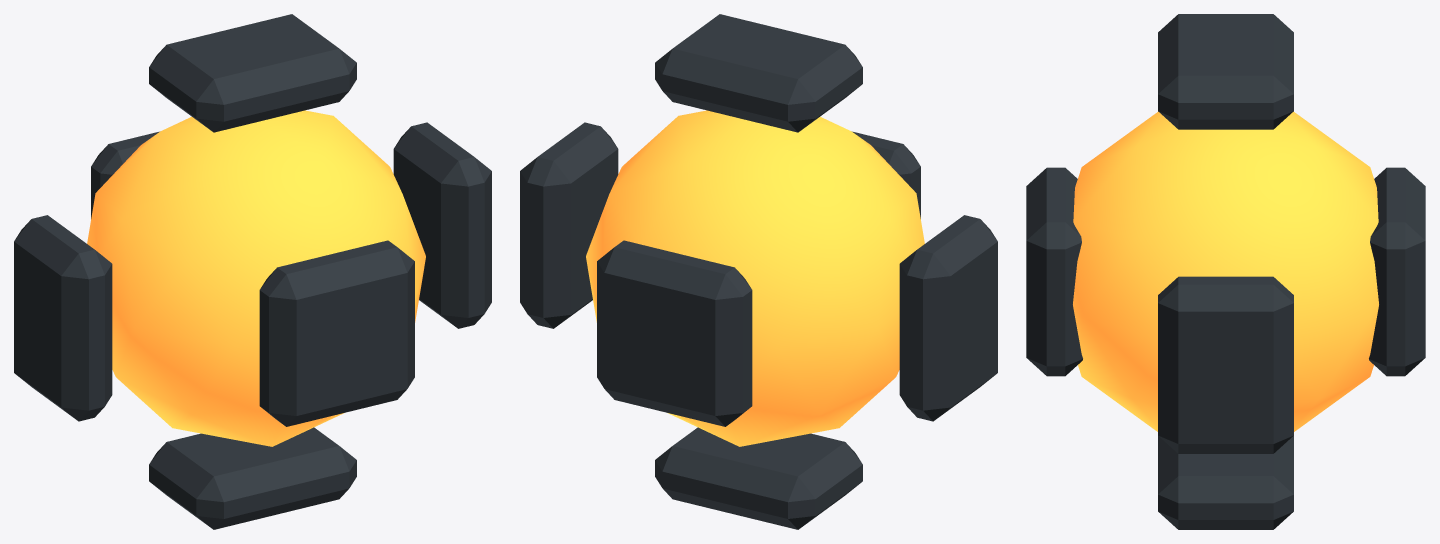
File: VFX_WeakpointCore_v01.glb
3 views of the same model, side by side, from view 1: azimuth 30°, elevation 25°; view 2: azimuth 150°, elevation 25°; view 3: azimuth 270°, elevation 25° (orthographic).
Parts seen in each view (by area): view 1: MESH_WeakpointCore, BRK_WeakpointShell_06, BRK_WeakpointShell_04, BRK_WeakpointShell_01, BRK_WeakpointShell_02, BRK_WeakpointShell_03, BRK_WeakpointShell_05; view 2: MESH_WeakpointCore, BRK_WeakpointShell_05, BRK_WeakpointShell_04, BRK_WeakpointShell_01, BRK_WeakpointShell_02, BRK_WeakpointShell_03, BRK_WeakpointShell_06; view 3: MESH_WeakpointCore, BRK_WeakpointShell_03, BRK_WeakpointShell_01, BRK_WeakpointShell_02, BRK_WeakpointShell_05, BRK_WeakpointShell_06.
Boxes of the visible parts, x1,y1,x2,y2 form: MESH_WeakpointCore: (87,110,425,446); BRK_WeakpointShell_06: (259,240,414,426); BRK_WeakpointShell_04: (14,215,112,421); BRK_WeakpointShell_01: (149,14,356,132); BRK_WeakpointShell_02: (149,427,356,529); BRK_WeakpointShell_03: (393,122,491,328); BRK_WeakpointShell_05: (91,131,159,218); MESH_WeakpointCore: (586,110,924,446); BRK_WeakpointShell_05: (597,240,752,426); BRK_WeakpointShell_04: (899,215,997,421); BRK_WeakpointShell_01: (655,14,862,132); BRK_WeakpointShell_02: (655,427,862,529); BRK_WeakpointShell_03: (520,122,618,328); BRK_WeakpointShell_06: (852,131,920,218); MESH_WeakpointCore: (1073,111,1378,431); BRK_WeakpointShell_03: (1158,276,1293,453); BRK_WeakpointShell_01: (1158,14,1293,129); BRK_WeakpointShell_02: (1158,436,1293,529); BRK_WeakpointShell_05: (1369,167,1425,376); BRK_WeakpointShell_06: (1026,167,1082,376).
Size of the model in its own units: 0.295 by 0.295 by 0.235.
